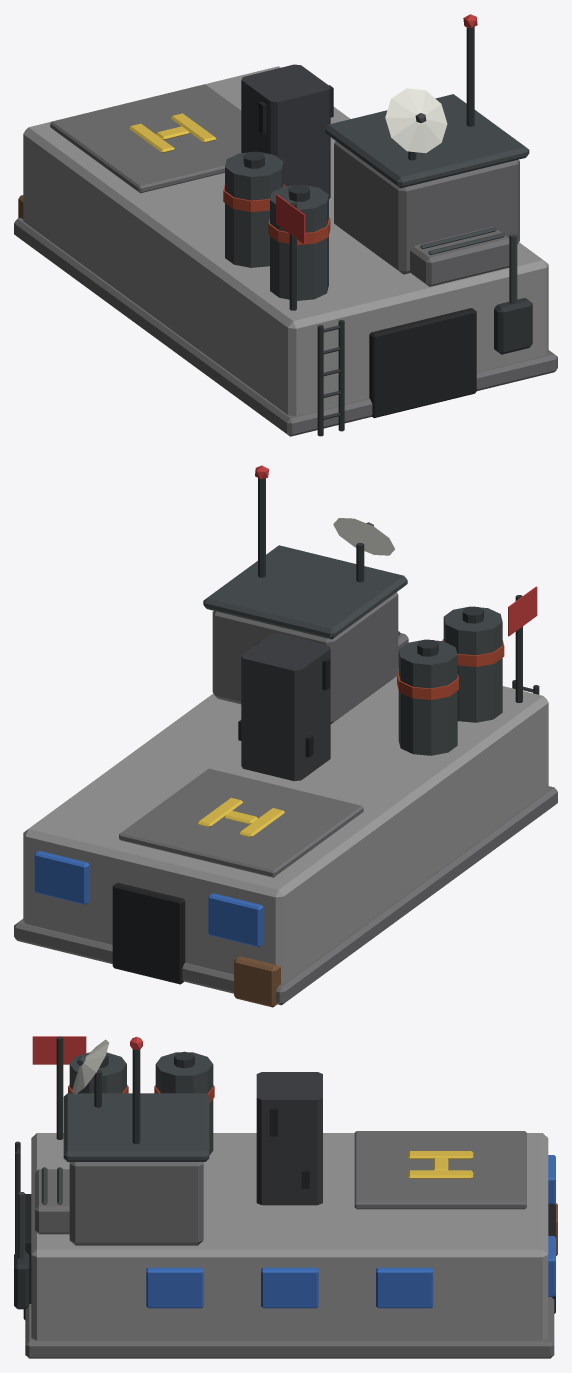
3 views of the same model, one above another, from view 1: azimuth 30°, elevation 25°; view 2: azimuth 150°, elevation 25°; view 3: azimuth 270°, elevation 25° (orthographic). The views are drawn at different scales.
Visible parts, largest first — view 1: base_1x2; view 2: base_1x2; view 3: base_1x2.
Boxes of the visible parts, bbox=[...] form: base_1x2: bbox=[14, 14, 557, 436]; base_1x2: bbox=[14, 465, 557, 1007]; base_1x2: bbox=[14, 1036, 557, 1358].
Size of the model in its own units: 1.57 by 1.79 by 2.84.
Materials: 1 (1 with a texture image).
